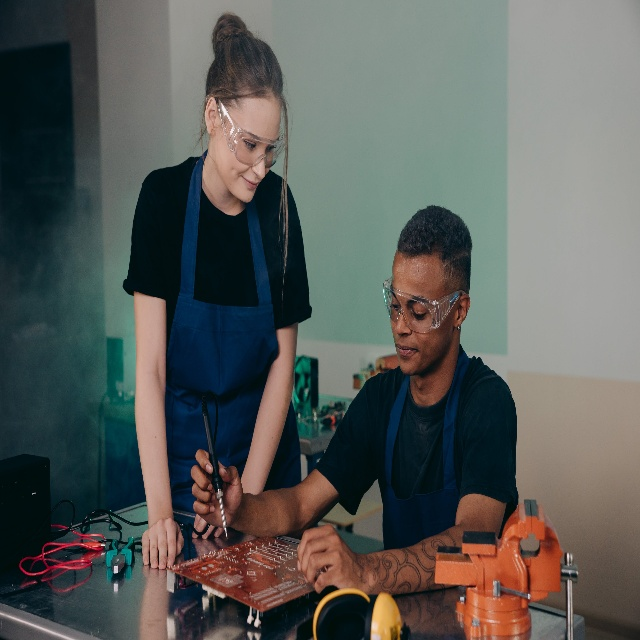Gafas: (215, 96, 280, 170), (383, 274, 460, 334)
Sin_guantes: (294, 524, 359, 595), (188, 446, 241, 529), (142, 517, 184, 572), (192, 514, 221, 542)
